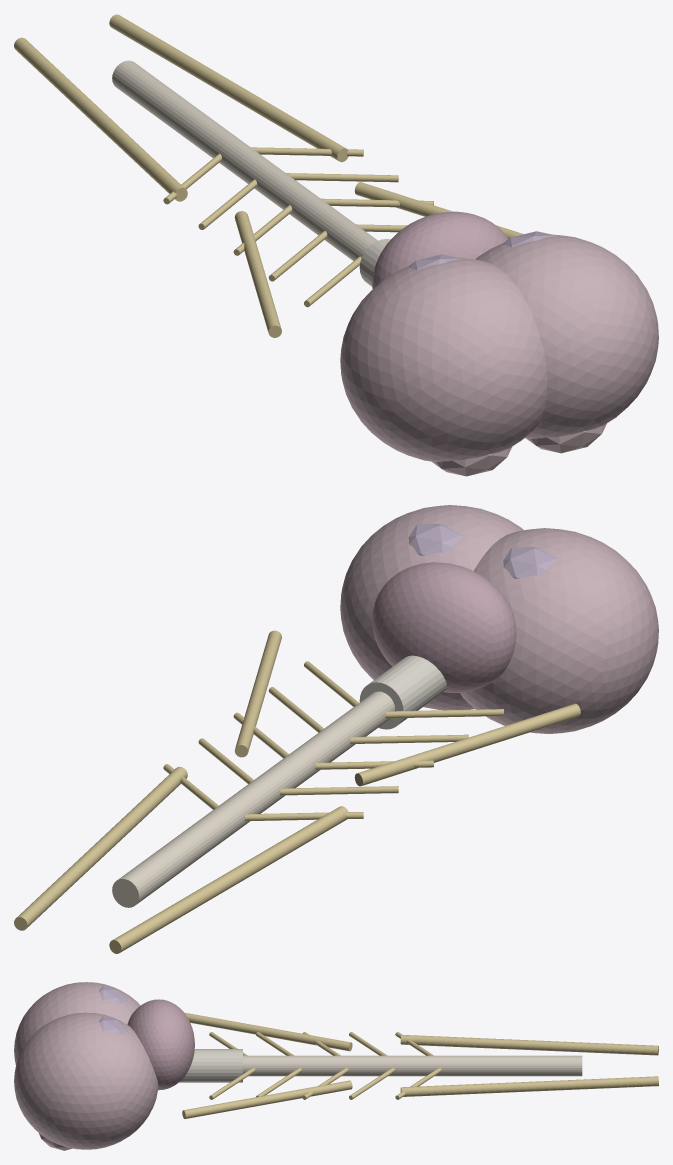
File: nervous-g3-high.glb
The picture shows the model from 3 angles, top to bottom: view 1: azimuth 30°, elevation 25°; view 2: azimuth 150°, elevation 25°; view 3: azimuth 270°, elevation 25°; orthographic projection. The views are drawn at different scales.
Visible parts, largest first — view 1: left_cerebral_hemisphere, right_cerebral_hemisphere, spinal_cord, cerebellum, right_sciatic_nerve, left_sciatic_nerve, left_brachial_nerve, right_brachial_nerve, right_frontal_lobe_proxy, left_frontal_lobe_proxy, right_spinal_branch_4, right_spinal_branch_5 (+1 smaller); view 2: left_cerebral_hemisphere, cerebellum, right_cerebral_hemisphere, spinal_cord, left_sciatic_nerve, right_sciatic_nerve, left_brachial_nerve, brainstem_proxy, right_brachial_nerve, left_occipital_lobe_proxy, right_occipital_lobe_proxy, left_spinal_branch_4 (+4 smaller); view 3: right_cerebral_hemisphere, spinal_cord, cerebellum, left_cerebral_hemisphere, right_sciatic_nerve, left_sciatic_nerve, brainstem_proxy, right_brachial_nerve, left_brachial_nerve, left_occipital_lobe_proxy, right_occipital_lobe_proxy, right_spinal_branch_1 (+1 smaller).
Part boxes in pixels (x1,y1,x2,y2): left_cerebral_hemisphere: (340,257,547,462); right_cerebral_hemisphere: (475,234,658,438); spinal_cord: (112,60,377,260); cerebellum: (372,211,508,288); right_sciatic_nerve: (109,14,348,162); left_sciatic_nerve: (14,37,187,201); left_brachial_nerve: (234,211,281,337); right_brachial_nerve: (354,182,523,238); right_frontal_lobe_proxy: (527,423,606,453); left_frontal_lobe_proxy: (432,446,512,476); right_spinal_branch_4: (286,173,398,182); right_spinal_branch_5: (251,147,363,156); left_cerebral_hemisphere: (460,528,658,733); cerebellum: (372,562,516,692); right_cerebral_hemisphere: (340,505,523,710); spinal_cord: (112,691,394,907); left_sciatic_nerve: (109,806,348,953); right_sciatic_nerve: (14,766,187,930); left_brachial_nerve: (354,703,580,786); brainstem_proxy: (359,655,446,729); right_brachial_nerve: (234,630,281,757); left_occipital_lobe_proxy: (503,547,557,578); right_occipital_lobe_proxy: (408,524,462,555); left_spinal_branch_4: (280,786,398,795); right_cerebral_hemisphere: (14,1012,158,1149); spinal_cord: (243,1055,582,1076); cerebellum: (127,999,194,1090); left_cerebral_hemisphere: (14,982,140,1064); right_sciatic_nerve: (400,1076,658,1096); left_sciatic_nerve: (400,1035,658,1055); brainstem_proxy: (179,1049,242,1082); right_brachial_nerve: (182,1080,352,1118); left_brachial_nerve: (184,1012,352,1051); left_occipital_lobe_proxy: (99,985,127,1003); right_occipital_lobe_proxy: (99,1016,127,1034); right_spinal_branch_1: (209,1068,255,1099).
Size of the model in its own units: 1.85 by 1.08 by 4.99.
